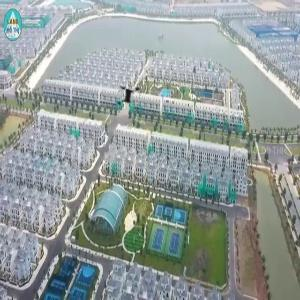drone: (96, 66, 161, 131)
